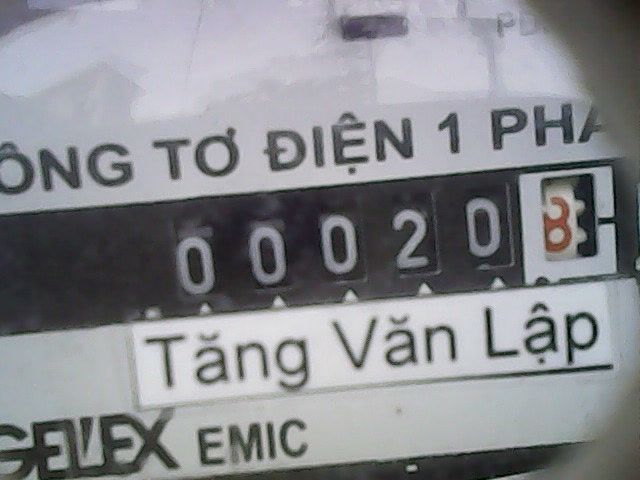phy_plate: (144, 157, 622, 308)
